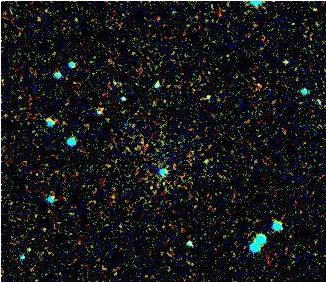star: (13, 234, 43, 264)
